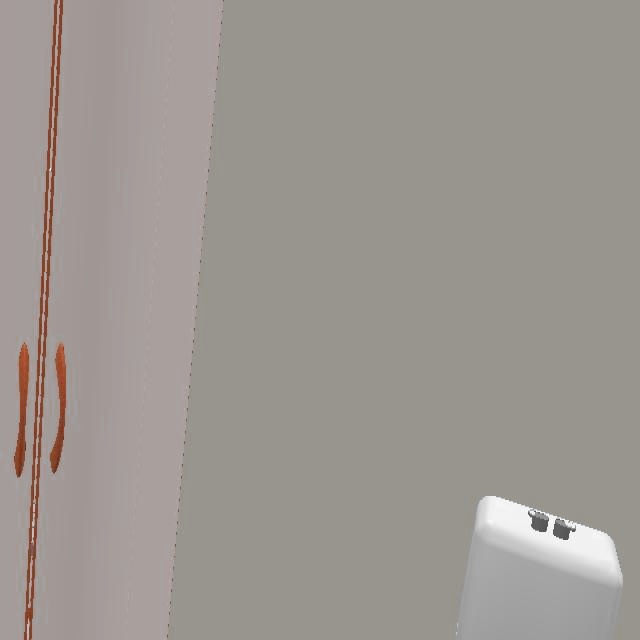toilet: (456, 496, 625, 640)
